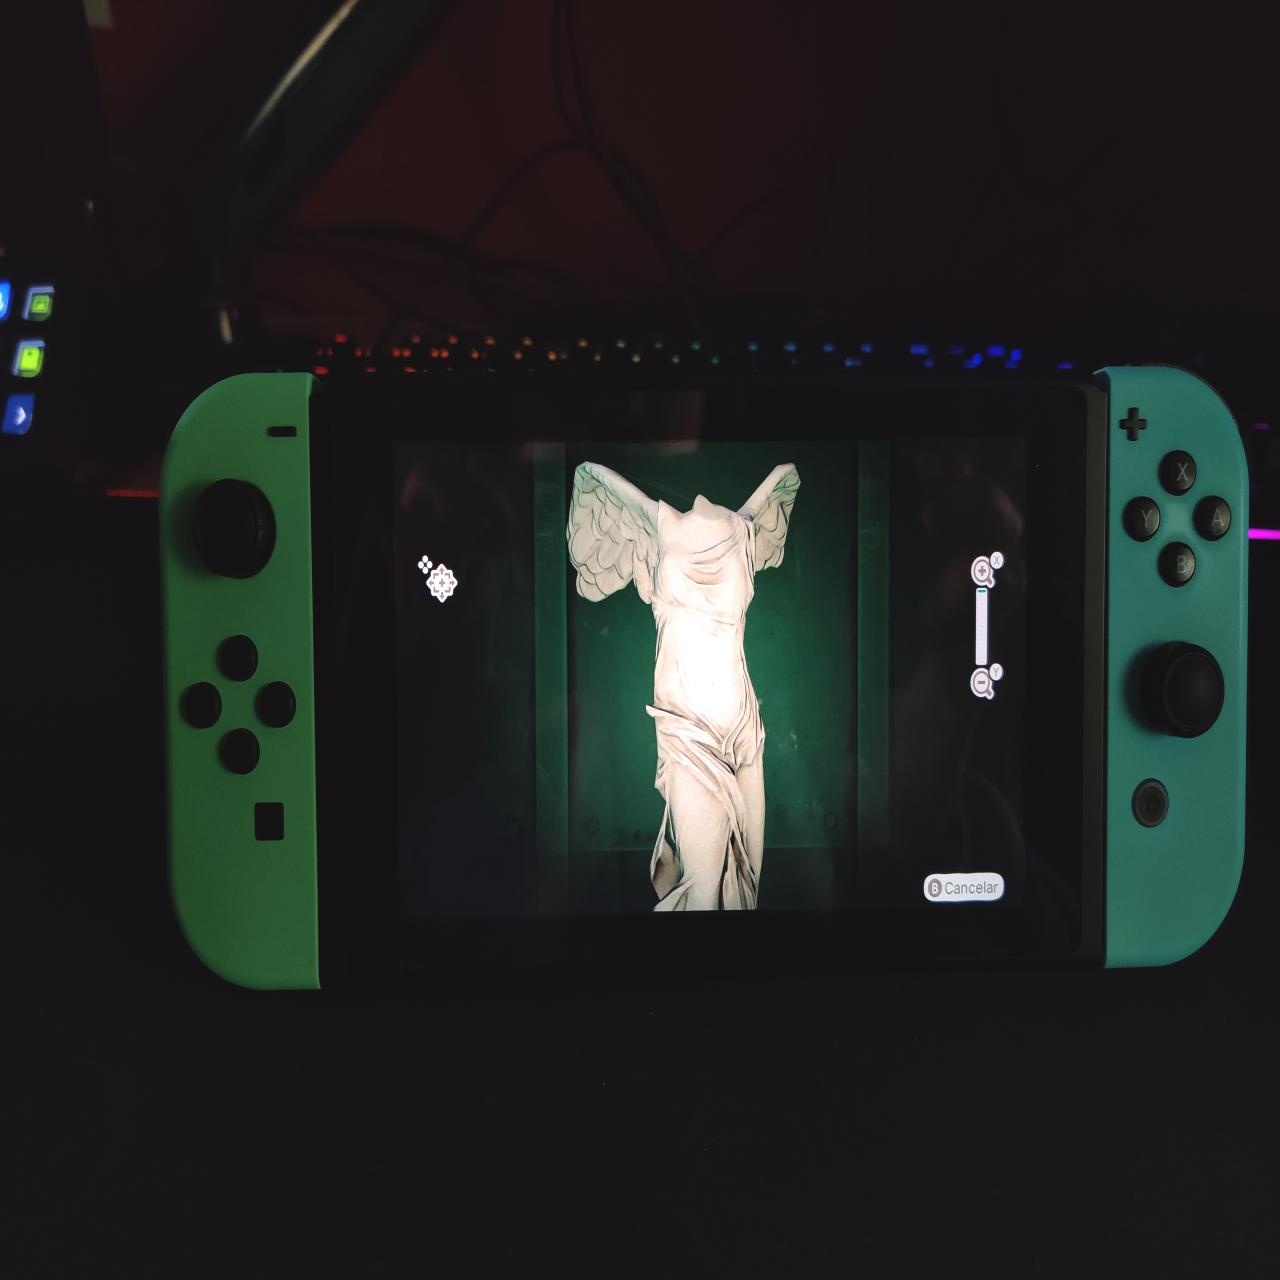Samothrace: (563, 454, 819, 915)
